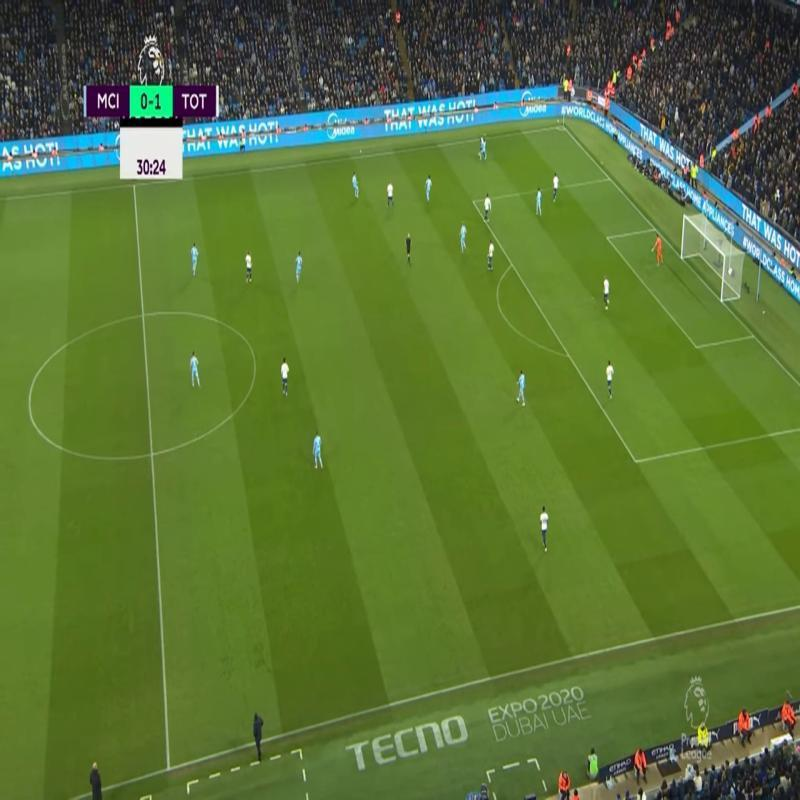1: (555, 118, 570, 134)
10: (505, 257, 519, 271)
11: (560, 348, 576, 365), (746, 328, 762, 345)
12: (628, 454, 642, 470)
13: (127, 178, 142, 194)
14: (135, 307, 152, 324)
15: (144, 446, 160, 462)
16: (160, 759, 178, 779)
2: (604, 170, 618, 188)
3: (650, 220, 660, 237)
7: (602, 228, 613, 248)
8: (688, 340, 704, 356)
9: (466, 196, 480, 208)
c: (22, 396, 40, 412), (246, 357, 262, 372)
